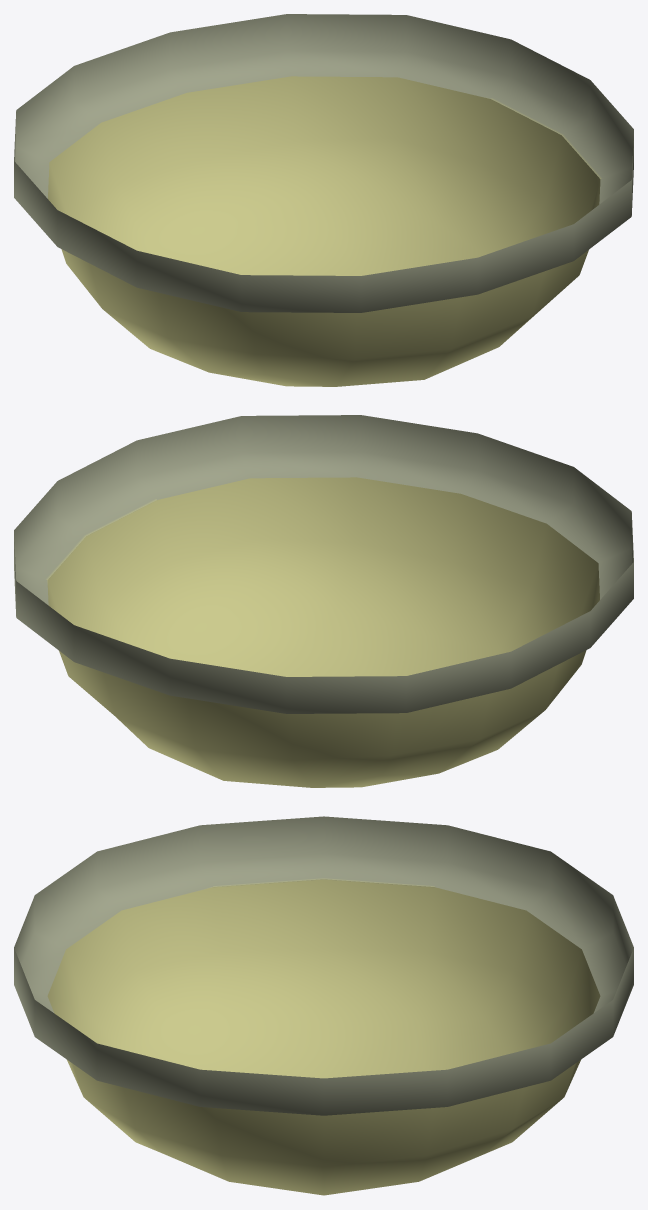
The model's file is ceiling light.fbx.
3 renders of one model, top to bottom at view 1: azimuth 30°, elevation 25°; view 2: azimuth 150°, elevation 25°; view 3: azimuth 270°, elevation 25°, orthographic.
Parts seen in each view (by area): view 1: pCube29; view 2: pCube29; view 3: pCube29.
Part boxes in pixels (bbox=[...]): pCube29: bbox=[14, 14, 633, 386]; pCube29: bbox=[14, 415, 633, 787]; pCube29: bbox=[14, 816, 633, 1195].
Size of the model in its own units: 0.6909 by 0.251 by 0.6909.
1 material, 1 textured.
